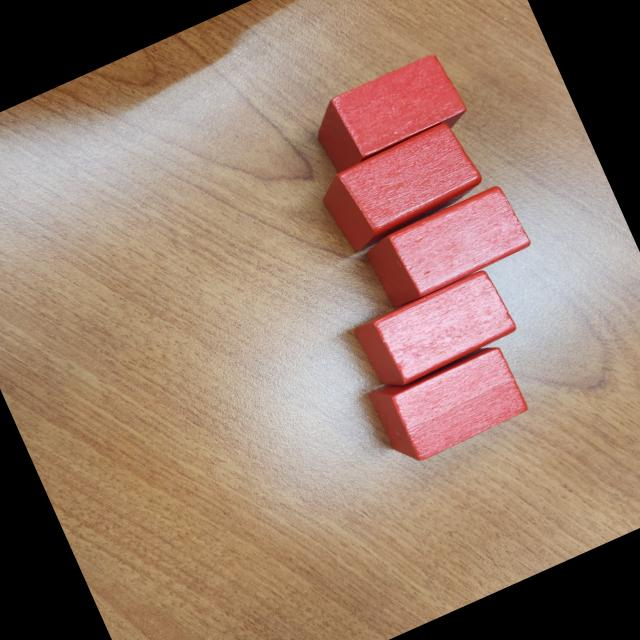red: (302, 49, 474, 183), (320, 123, 481, 255), (365, 186, 532, 306), (353, 272, 519, 384), (368, 347, 531, 461)
